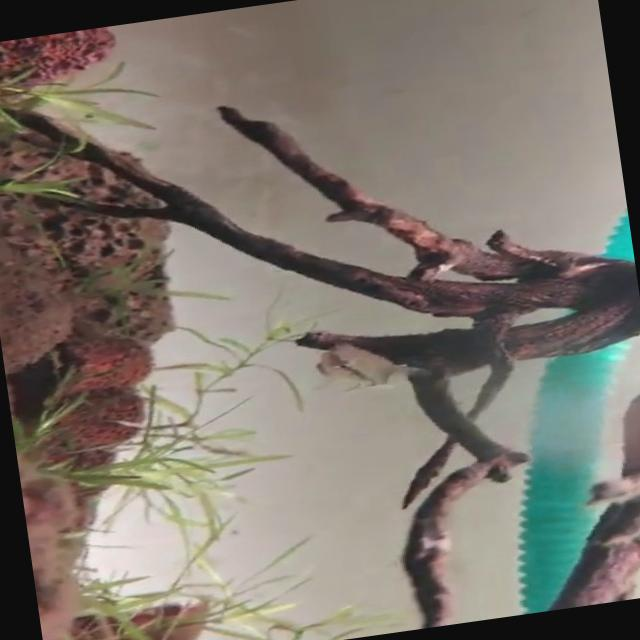Cakil Baligi: (298, 326, 438, 408)
